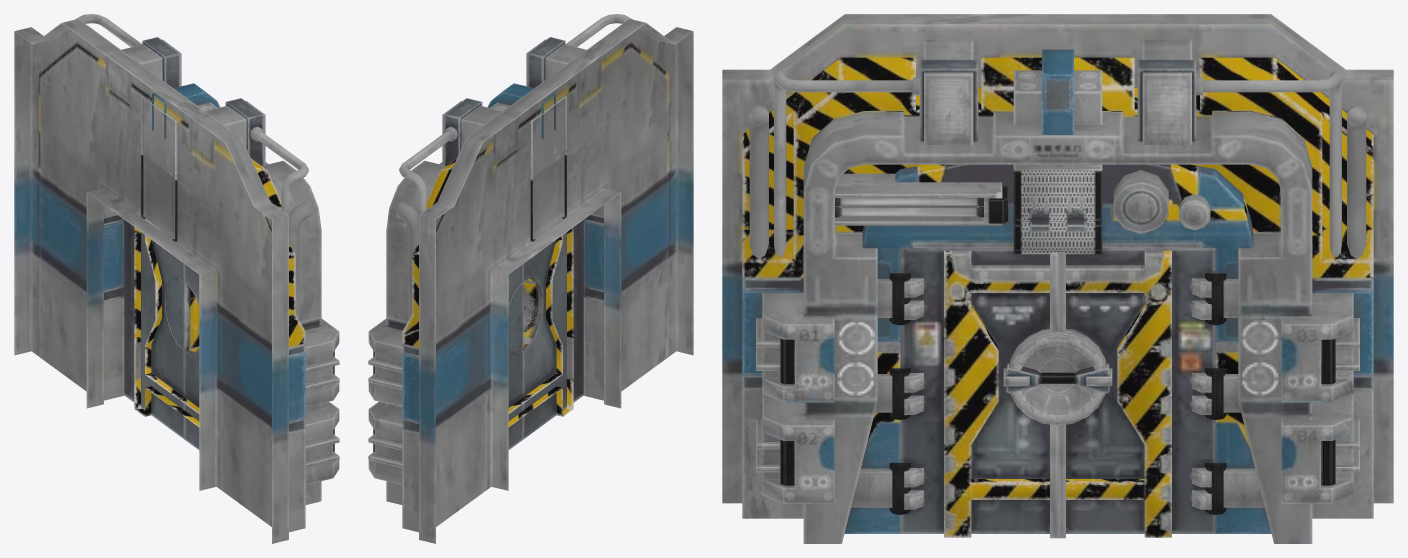
The model's file is door_room_unreal_01-opt.glb.
3 views of the same model, side by side, from view 1: azimuth 30°, elevation 25°; view 2: azimuth 150°, elevation 25°; view 3: azimuth 270°, elevation 25° (orthographic). The views are drawn at different scales.
Visible parts, largest first — view 1: defaultMaterial; view 2: defaultMaterial; view 3: defaultMaterial.
Part boxes in pixels (box(x1,y1,x2,y2)): defaultMaterial: box(14, 14, 339, 543); defaultMaterial: box(368, 14, 693, 543); defaultMaterial: box(722, 14, 1393, 543).
Size of the model in its own units: 0.4085 by 1.57 by 2.
Materials: 1 (1 with a texture image).
